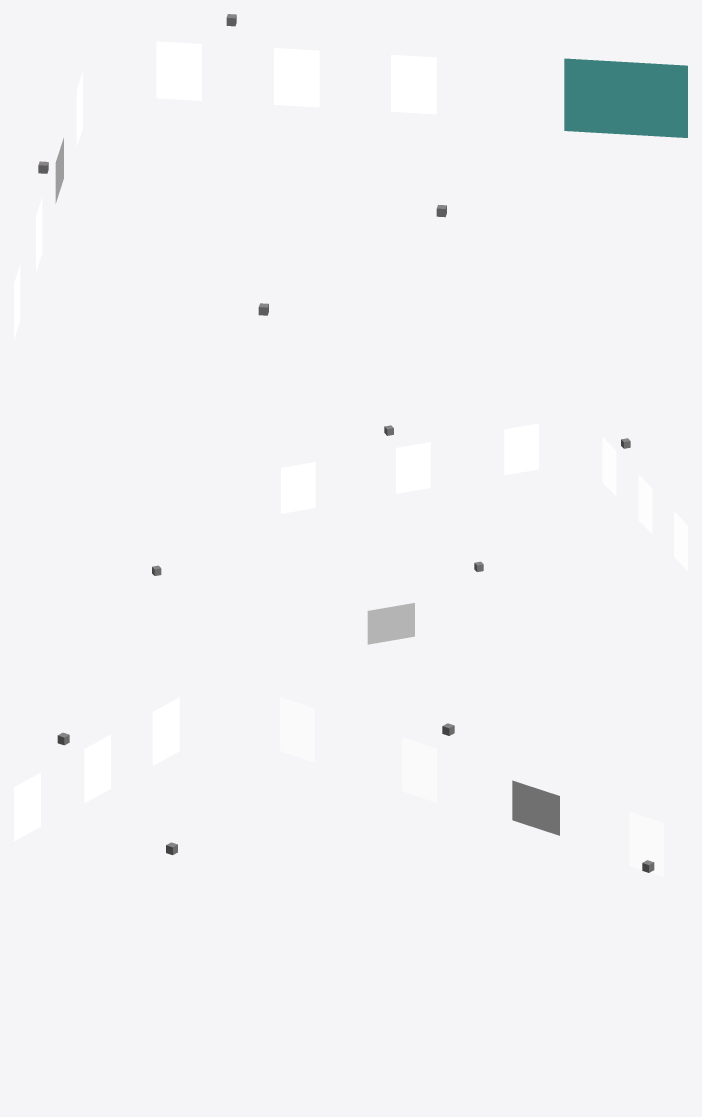
The model's file is wakeup_objects.glb.
The picture shows the model from 3 angles, top to bottom: view 1: azimuth 30°, elevation 25°; view 2: azimuth 150°, elevation 25°; view 3: azimuth 270°, elevation 25°; orthographic projection. The views are drawn at different scales.
Visible parts, largest first — view 1: opisWakeUp_1, LexDrewinski, VictorKovalenko, BartoszMamak; view 2: SzymonSzymankiewicz, SiqingYang, XuMeng, BarboraNemcova, JulianaSedlakova, HanRongxun, SalomonFabio; view 3: SzymonSzymankiewicz, NadiaCeruti, QuentinRoussel, TeijaHohl, SalomonFabio, HanRongxun, JulianaSedlakova.
Part boxes in pixels (<box>): opisWakeUp_1: <box>564,58,687,137</box>; LexDrewinski: <box>156,41,201,100</box>; VictorKovalenko: <box>391,55,436,114</box>; BartoszMamak: <box>274,48,319,107</box>; SzymonSzymankiewicz: <box>367,603,414,644</box>; SiqingYang: <box>396,442,430,493</box>; XuMeng: <box>504,423,538,475</box>; BarboraNemcova: <box>281,462,315,513</box>; JulianaSedlakova: <box>638,474,652,533</box>; HanRongxun: <box>602,436,616,496</box>; SalomonFabio: <box>674,511,687,570</box>; SzymonSzymankiewicz: <box>512,780,559,835</box>; NadiaCeruti: <box>280,697,314,762</box>; QuentinRoussel: <box>402,737,436,802</box>; TeijaHohl: <box>629,811,663,876</box>; SalomonFabio: <box>152,697,179,765</box>; HanRongxun: <box>14,772,40,840</box>; JulianaSedlakova: <box>84,735,110,802</box>.
Size of what is drawn, in the model's own units: 5.59 by 0.7084 by 4.69.
